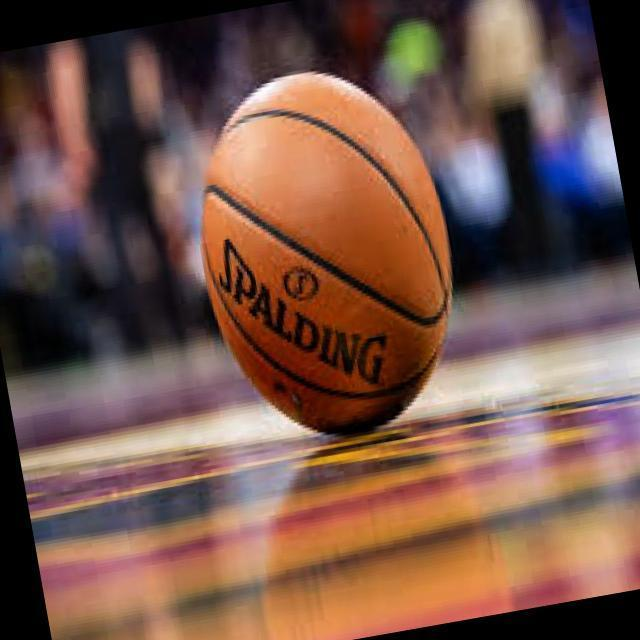ball: (176, 55, 477, 445)
